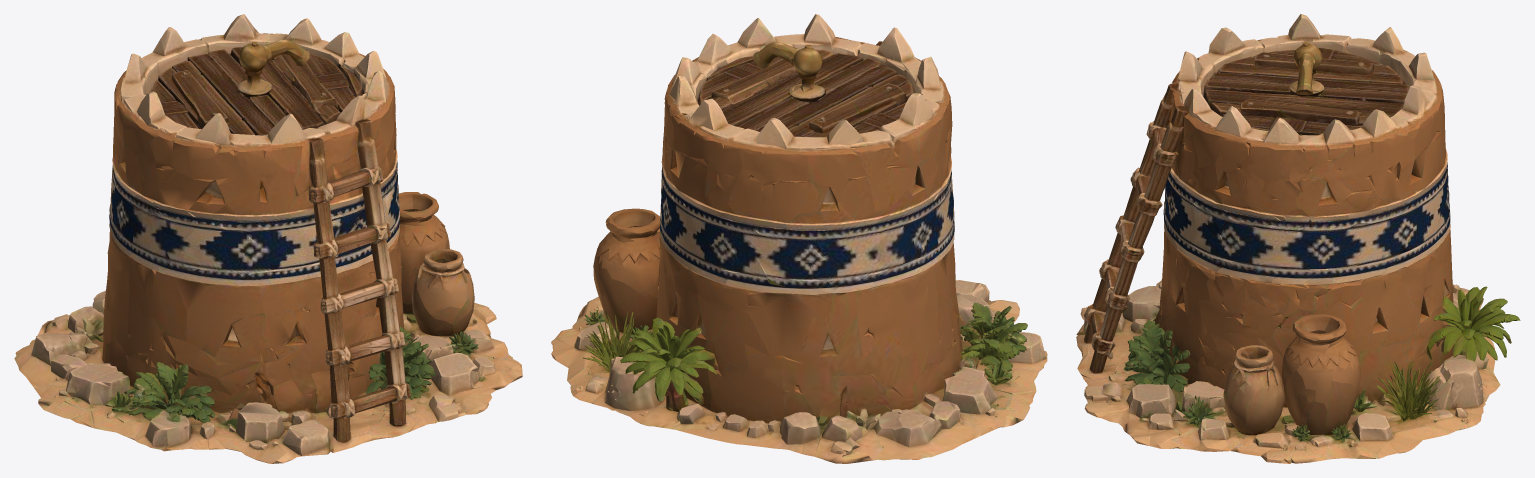
File: waterstore.glb
3 views of the same model, side by side, from view 1: azimuth 30°, elevation 25°; view 2: azimuth 150°, elevation 25°; view 3: azimuth 270°, elevation 25° (orthographic). The views are drawn at different scales.
Visible parts, largest first — view 1: waterstore; view 2: waterstore; view 3: waterstore.
Boxes of the visible parts, box(x1,y1,x2,y2) form: waterstore: box(14, 14, 522, 463); waterstore: box(551, 14, 1047, 463); waterstore: box(1076, 14, 1520, 463).
Size of the model in its own units: 1.9 by 1.31 by 1.69.
1 material, 1 textured.
